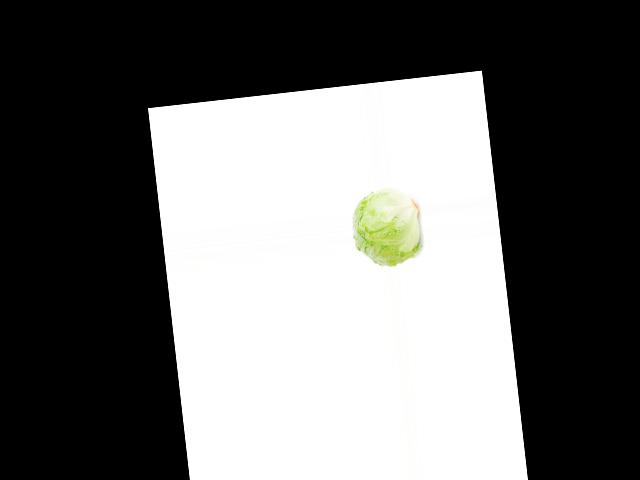lettuce: (348, 189, 423, 269)
